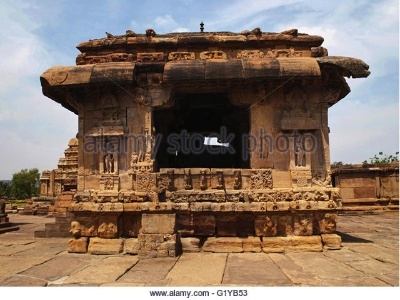mandapa: (38, 32, 344, 216)
